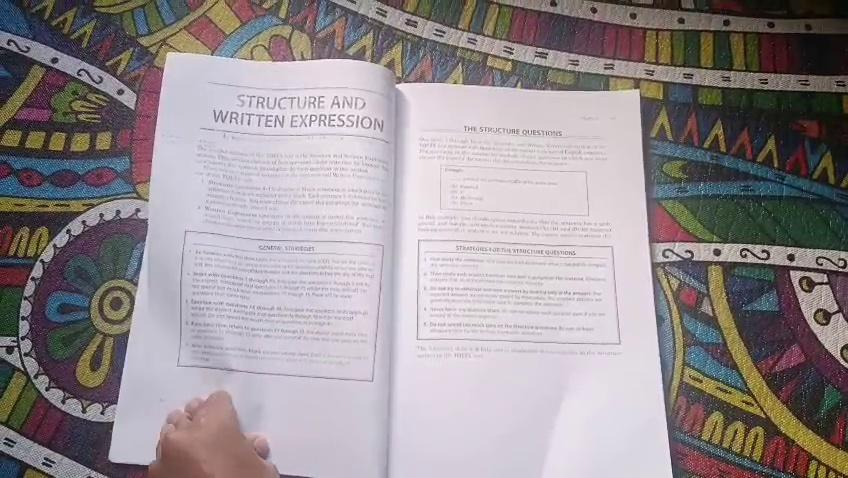Kertas: (360, 97, 638, 478), (244, 84, 452, 433)
